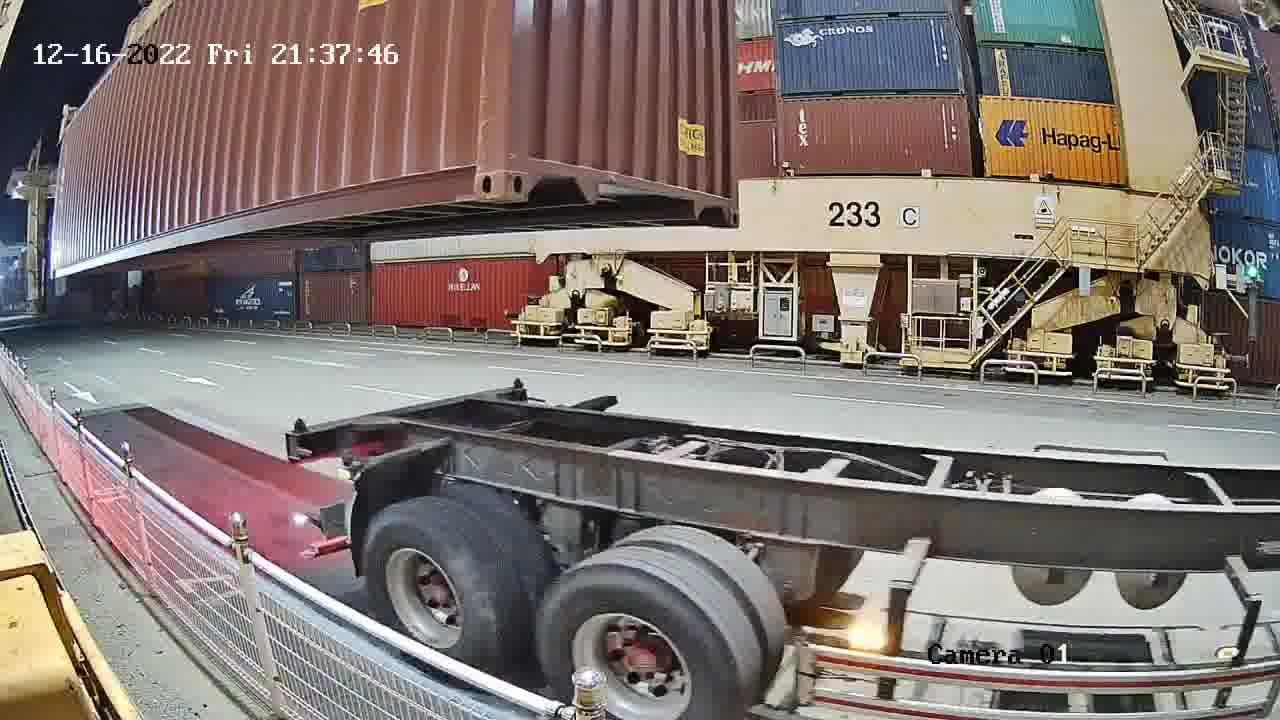Cone: (283, 416, 315, 465), (504, 379, 531, 403)
Hole_L: (503, 127, 564, 198)
Hole_R: (430, 127, 503, 203), (705, 164, 744, 227)
Tire: (535, 562, 739, 718), (358, 501, 501, 662)
